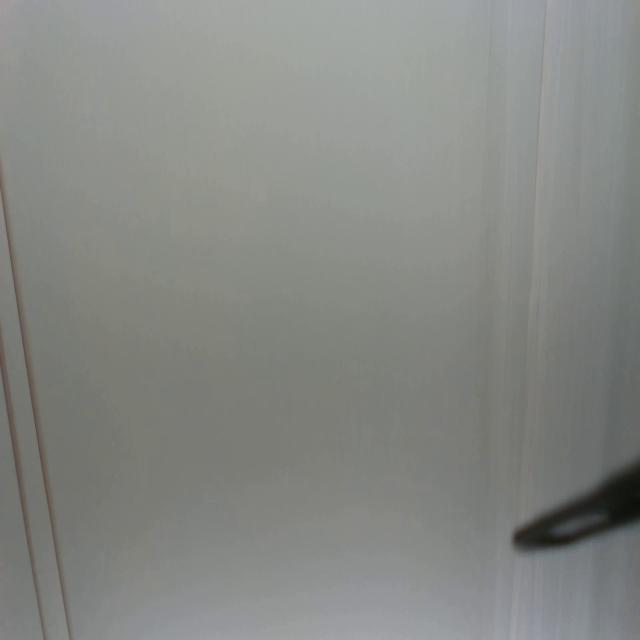crease: (0, 183, 72, 636), (0, 334, 45, 640), (520, 0, 548, 491)
